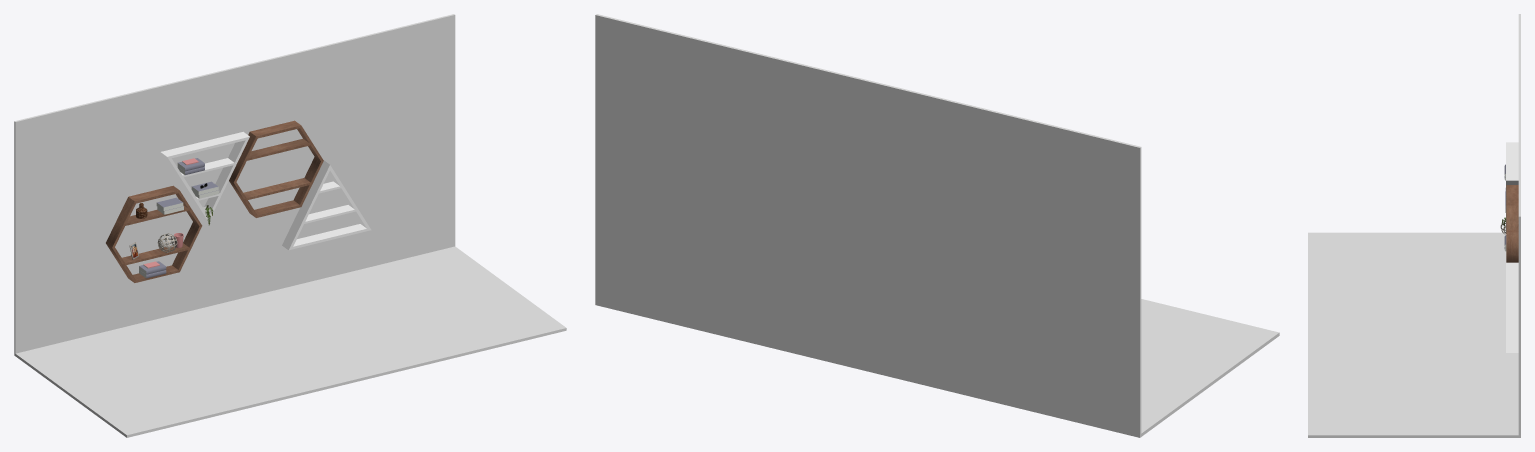
File: FourModernBookshelves.glb
3 renders of one model, left to right at view 1: azimuth 30°, elevation 25°; view 2: azimuth 150°, elevation 25°; view 3: azimuth 270°, elevation 25°, orthographic. The views are drawn at different scales.
Parts seen in each view (by area): view 1: Box001, decorated_shelf, empty_shelf, triangluar_shelf, empty_triangluar; view 2: Box001; view 3: Box001, empty_triangluar, empty_shelf, triangluar_shelf.
Boxes of the visible parts, x1=… form: Box001: x1=14, y1=14, x2=566, y2=437; decorated_shelf: x1=106, y1=185, x2=202, y2=282; empty_shelf: x1=229, y1=120, x2=323, y2=217; triangluar_shelf: x1=160, y1=131, x2=249, y2=221; empty_triangluar: x1=282, y1=160, x2=371, y2=250; Box001: x1=595, y1=14, x2=1279, y2=437; Box001: x1=1308, y1=14, x2=1520, y2=437; empty_triangluar: x1=1506, y1=262, x2=1518, y2=352; empty_shelf: x1=1506, y1=185, x2=1518, y2=262; triangluar_shelf: x1=1504, y1=142, x2=1518, y2=232.
Bounding box in the file's own units: 3.39 × 1.73 × 1.51.
Materials: 6 (6 with a texture image).
